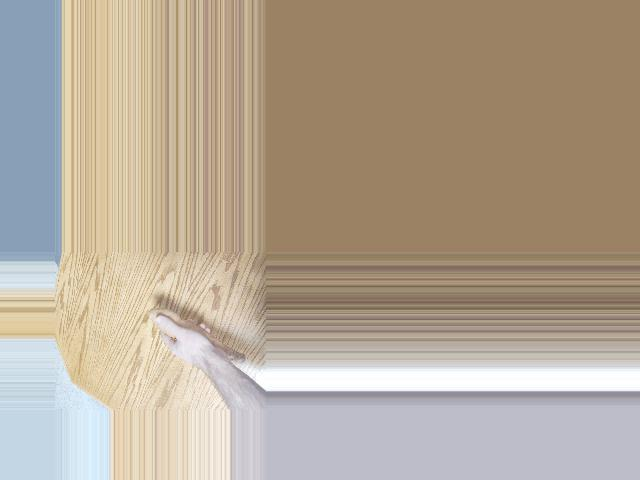sweet_potato: (147, 306, 262, 365)
